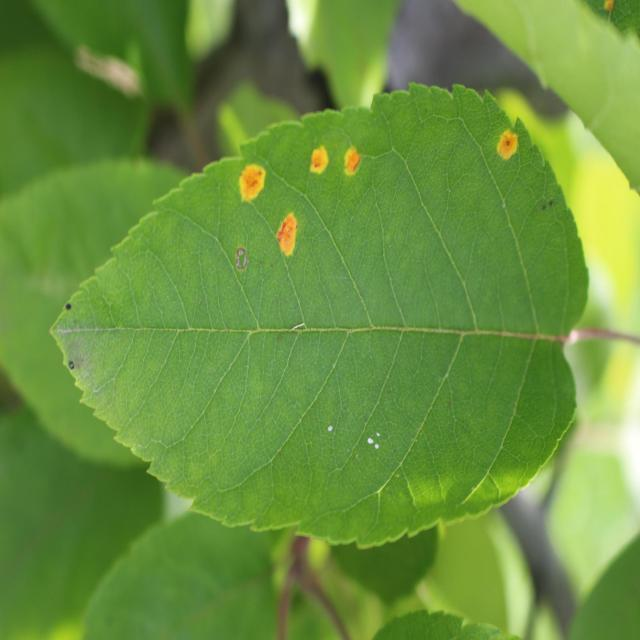Rust: (226, 146, 272, 212), (265, 207, 306, 270), (494, 120, 526, 187), (336, 134, 367, 199), (301, 134, 332, 187)
